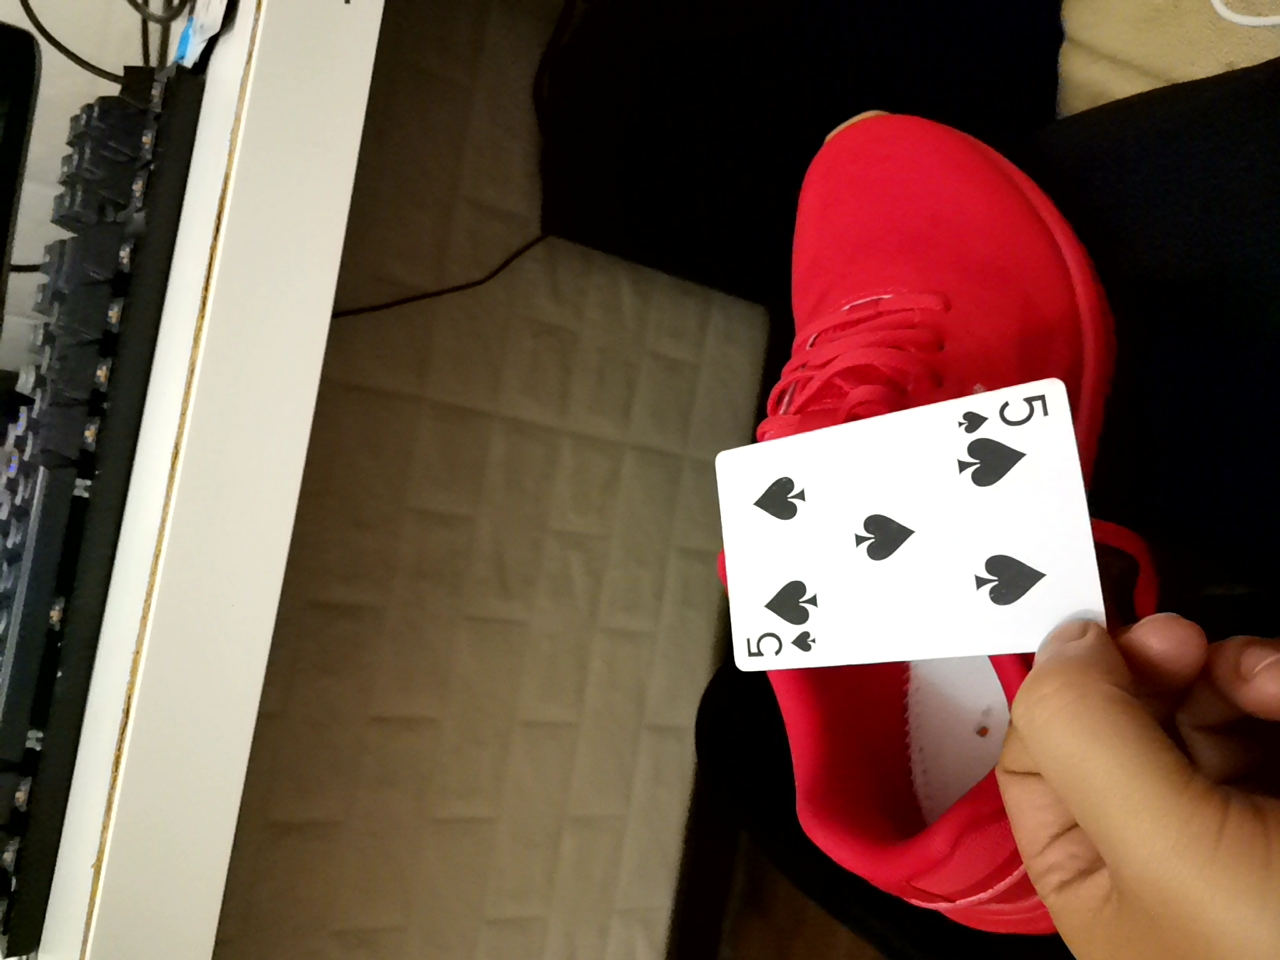ht 5: (708, 391, 1099, 695)
